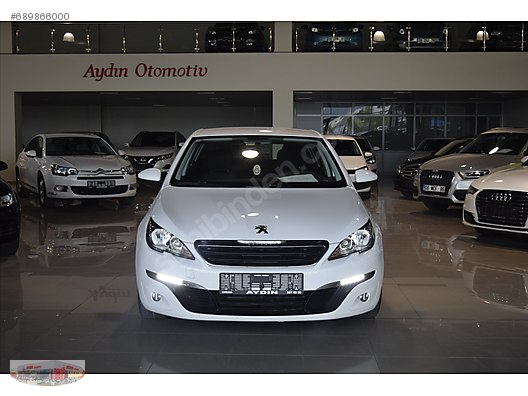peugeot: (130, 124, 390, 328)
